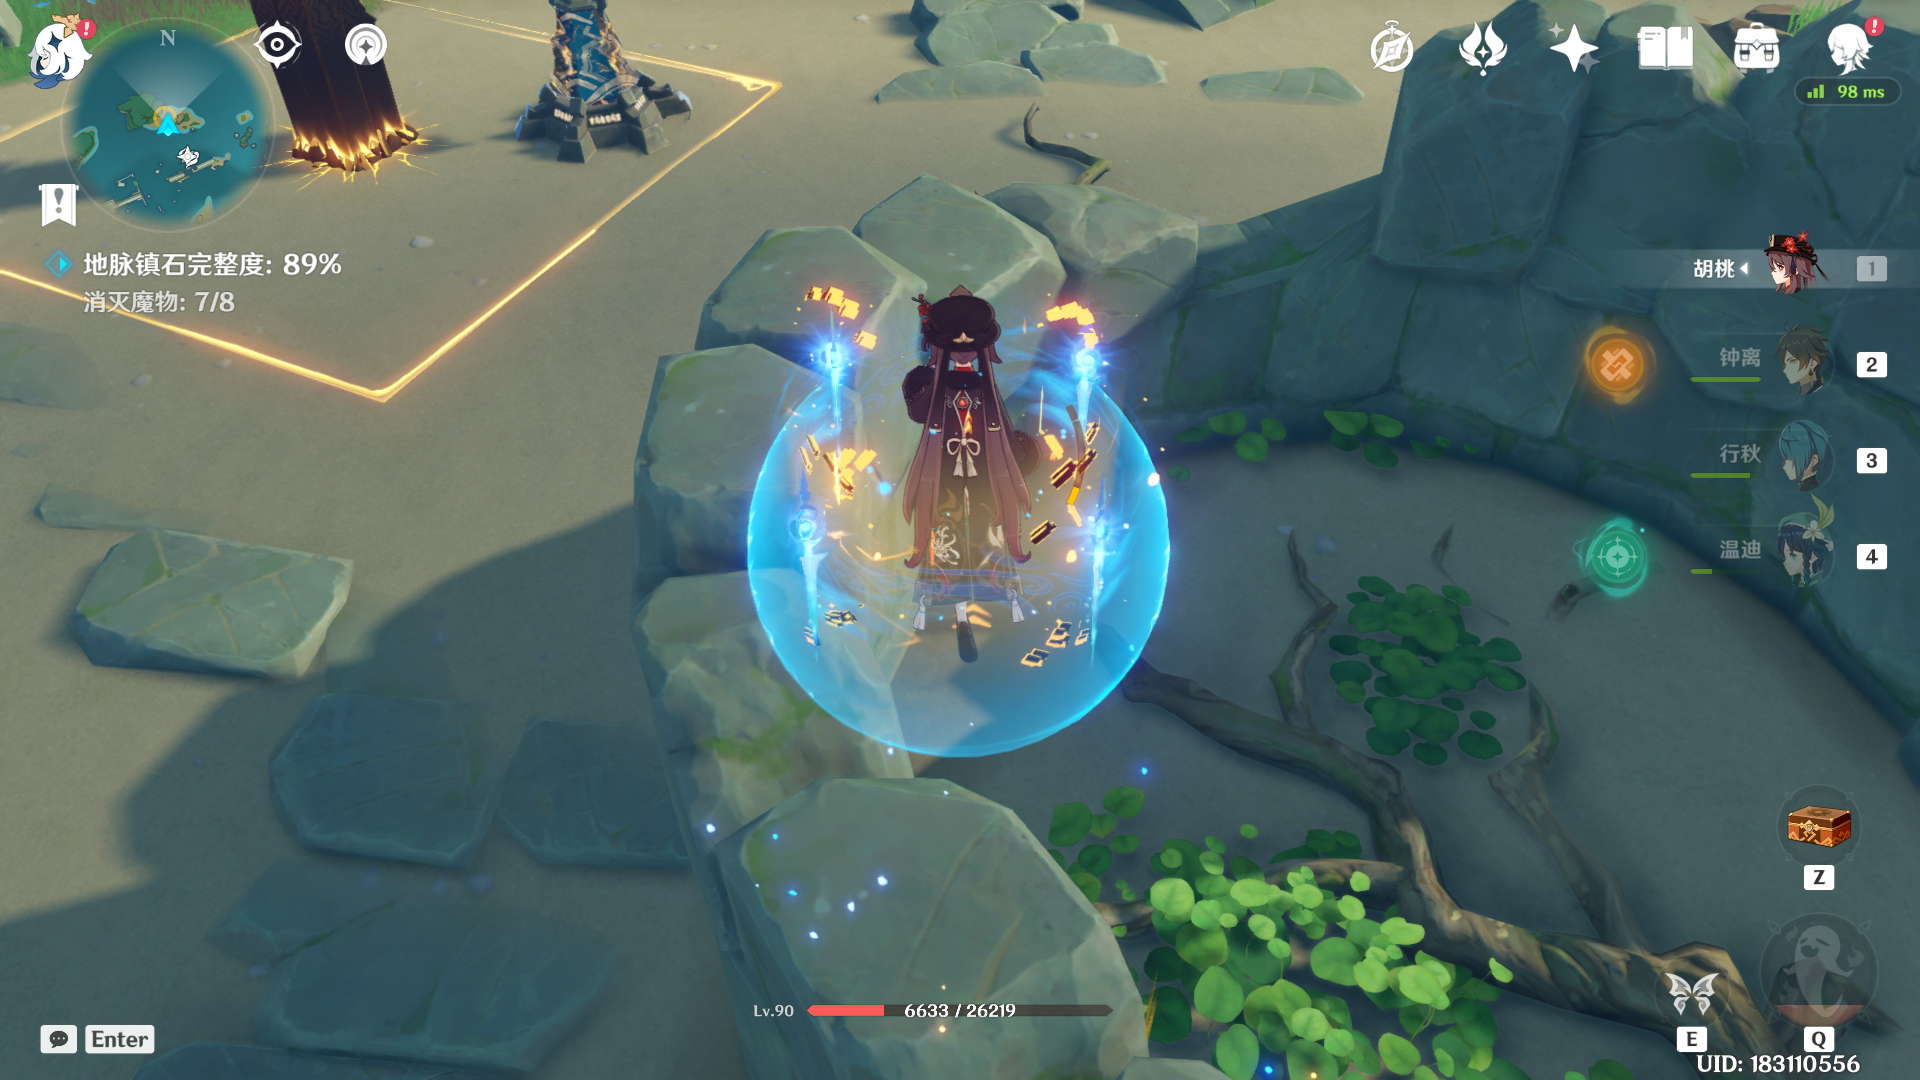character: (793, 269, 1112, 702)
